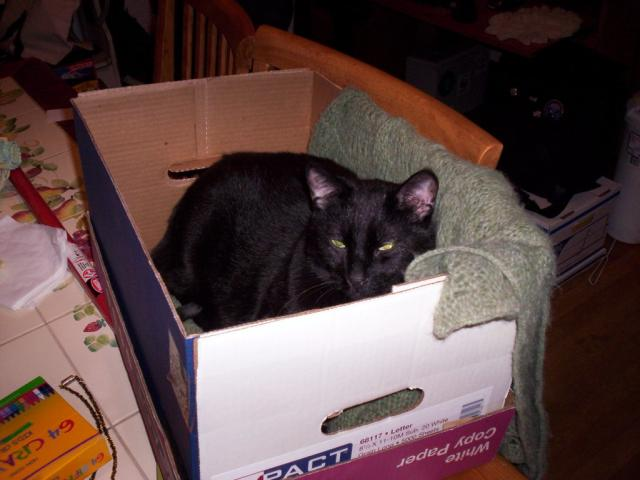Cat: (148, 148, 438, 332)
